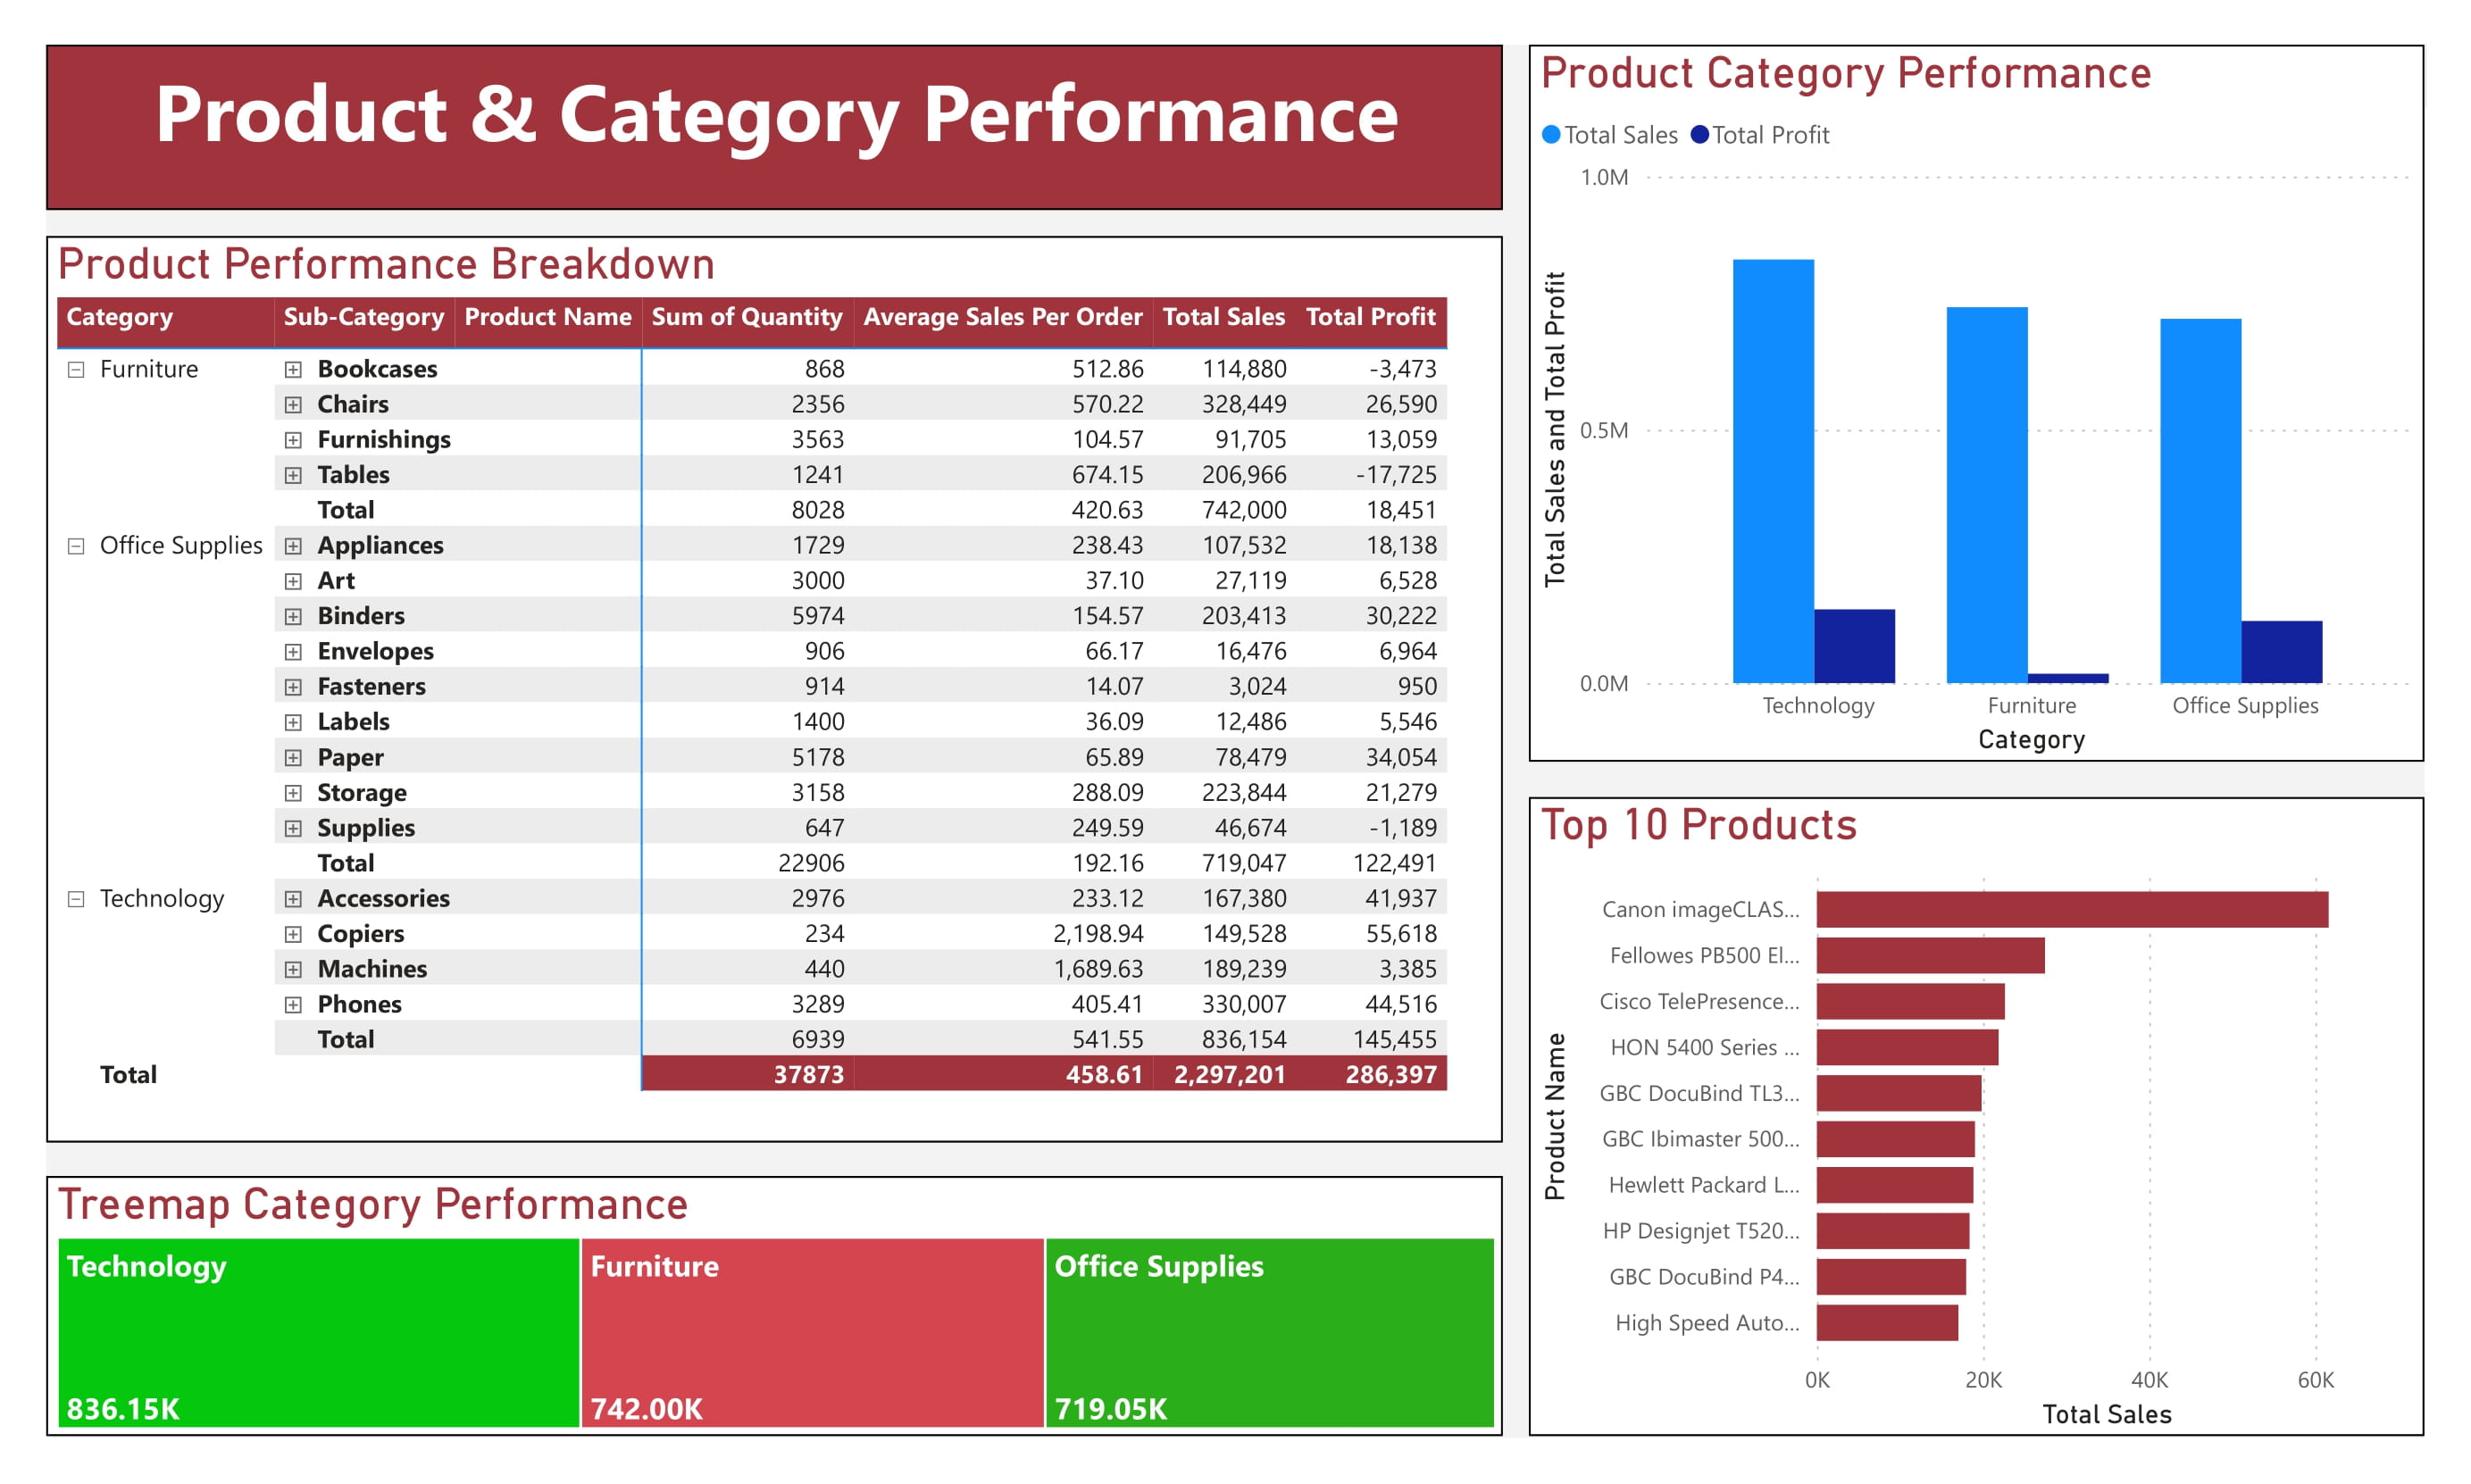

The dashboard page shown, as its layout file describes it:
{"tool":"powerbi","page":{"name":"Product & Category Performance","canvas":[1280,750],"ordinal":3},"visuals":[{"type":"clusteredColumnChart","title":"Product Category Performance","fields":{"Category":["Products.Category"],"Y":["Orders.Total Sales","Orders.Total Profit"]},"box":[798,0,482,386.1],"z":0},{"type":"barChart","title":"Top 10 Products","fields":{"Category":["Products.Product Name"],"Y":["Orders.Total Sales"]},"box":[798,404.7,482,344.7],"z":1},{"type":"pivotTable","title":"Product Performance Breakdown","fields":{"Rows":["Products.Category","Products.Sub-Category","Products.Product Name"],"Values":["Sum(Orders.Quantity)","Orders.Average Sales Per Order","Orders.Total Sales","Orders.Total Profit"]},"box":[0,103,783.7,487.7],"z":2},{"type":"treemap","title":"Treemap Category Performance","fields":{"Group":["Products.Category"],"Values":["Orders.Total Sales"]},"box":[0,609.3,783.7,140.2],"z":3},{"type":"textbox","box":[0,0,783.7,88.7],"z":4}]}

Visuals, with their boxes on the page's 1280x750 design canvas (x1, y1, x2, y2). These are canvas units, not pixel positions in the 2471x1484 screenshot, which may show the page scaled, cropped or inside an application window:
"Product Category Performance" clusteredColumnChart: (x1=798, y1=0, x2=1280, y2=386)
"Top 10 Products" barChart: (x1=798, y1=405, x2=1280, y2=749)
"Product Performance Breakdown" pivotTable: (x1=0, y1=103, x2=784, y2=591)
"Treemap Category Performance" treemap: (x1=0, y1=609, x2=784, y2=750)
textbox: (x1=0, y1=0, x2=784, y2=89)
